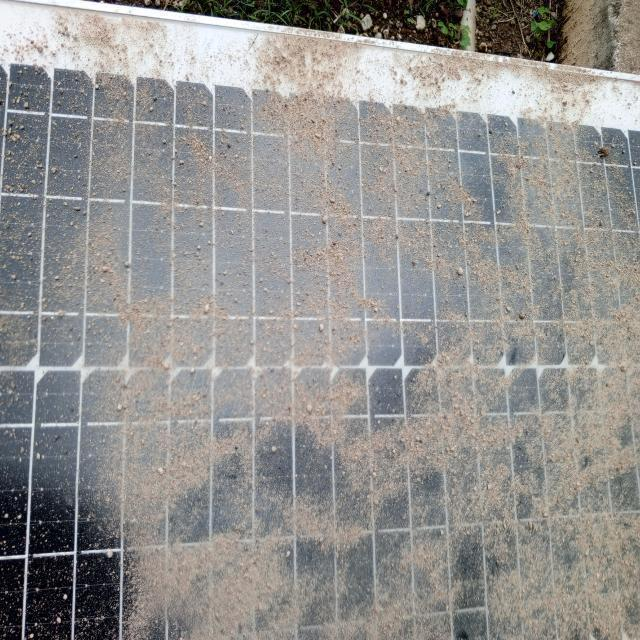Surface Contaminant: (17, 106, 639, 639)
